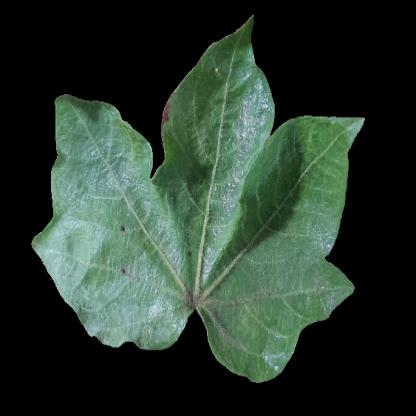healthy: (201, 164, 331, 306), (63, 183, 174, 306), (177, 94, 259, 157), (56, 117, 128, 181), (224, 316, 290, 370), (325, 116, 353, 166)
